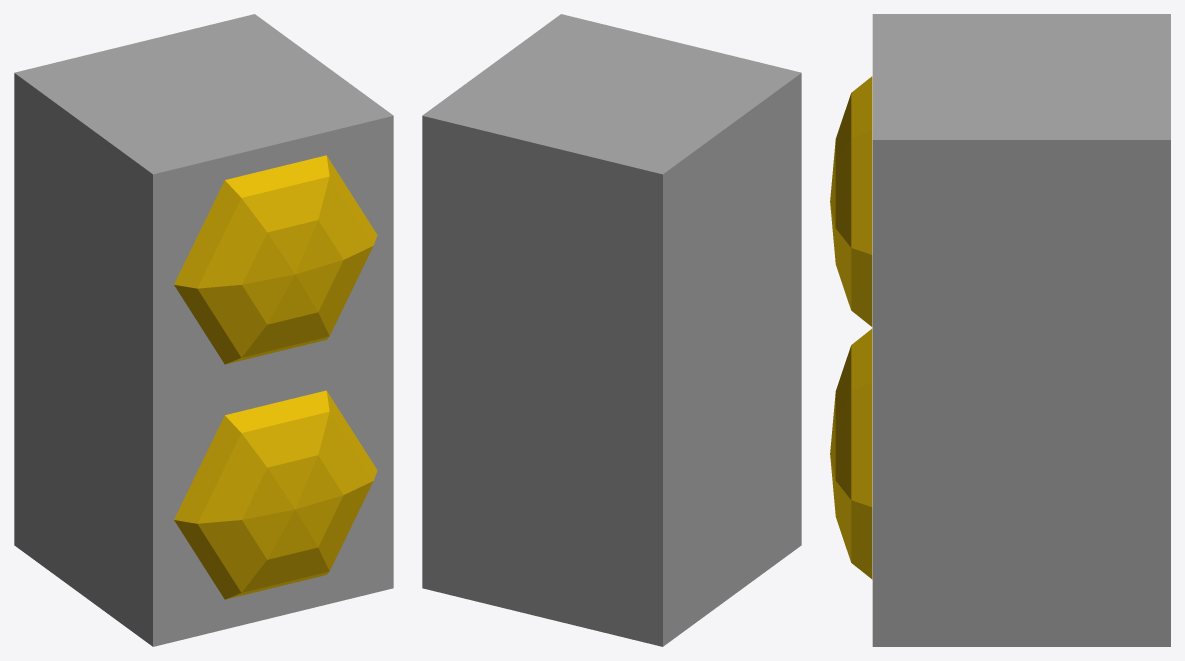
Rendered from speaker.fbx.
3 renders of one model, left to right at view 1: azimuth 30°, elevation 25°; view 2: azimuth 150°, elevation 25°; view 3: azimuth 270°, elevation 25°, orthographic. The views are drawn at different scales.
Parts seen in each view (by area): view 1: speaker_box, speaker_upper_half, speaker_lower_half; view 2: speaker_box; view 3: speaker_box, speaker_lower_half, speaker_upper_half.
Part boxes in pixels (x1=…): speaker_box: x1=14, y1=14, x2=393, y2=646; speaker_upper_half: x1=174, y1=155, x2=377, y2=364; speaker_lower_half: x1=174, y1=390, x2=377, y2=599; speaker_box: x1=422, y1=14, x2=801, y2=646; speaker_box: x1=872, y1=14, x2=1170, y2=646; speaker_lower_half: x1=830, y1=328, x2=872, y2=579; speaker_upper_half: x1=830, y1=76, x2=872, y2=326.
Bounding box in the file's own units: 1 × 1.88 × 1.14.
